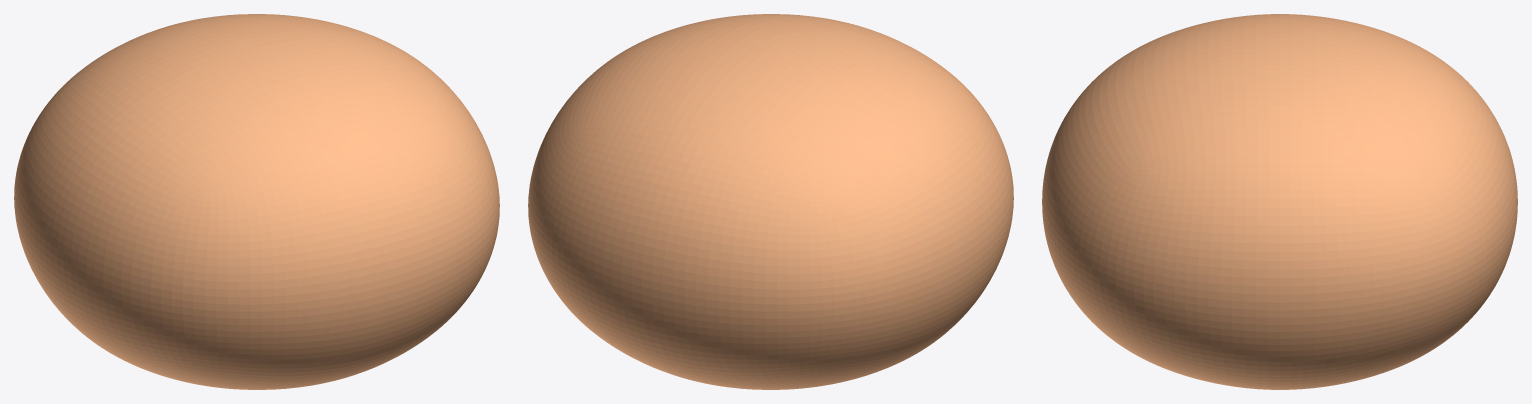
File: pastry (3).fbx
The picture shows the model from 3 angles, left to right: view 1: azimuth 30°, elevation 25°; view 2: azimuth 150°, elevation 25°; view 3: azimuth 270°, elevation 25°; orthographic projection.
Parts seen in each view (by area): view 1: pastry; view 2: pastry; view 3: pastry.
Part boxes in pixels (x1,y1,x2,y2): pastry: (14,14,499,389); pastry: (528,14,1013,389); pastry: (1042,14,1517,389).
Bounding box in the file's own units: 0.7 × 0.5 × 0.7.
